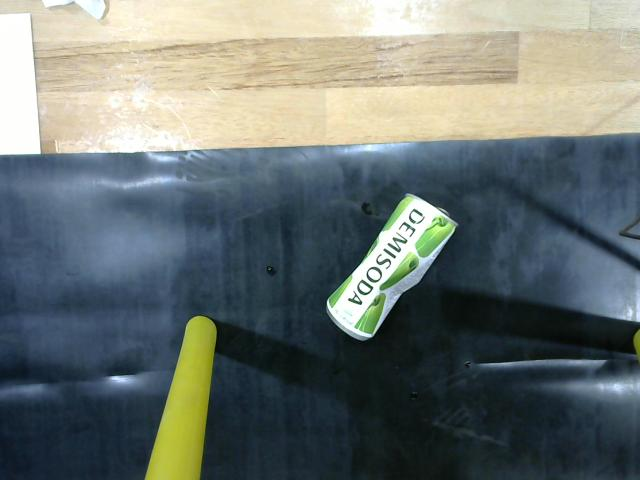can: (321, 189, 461, 349)
